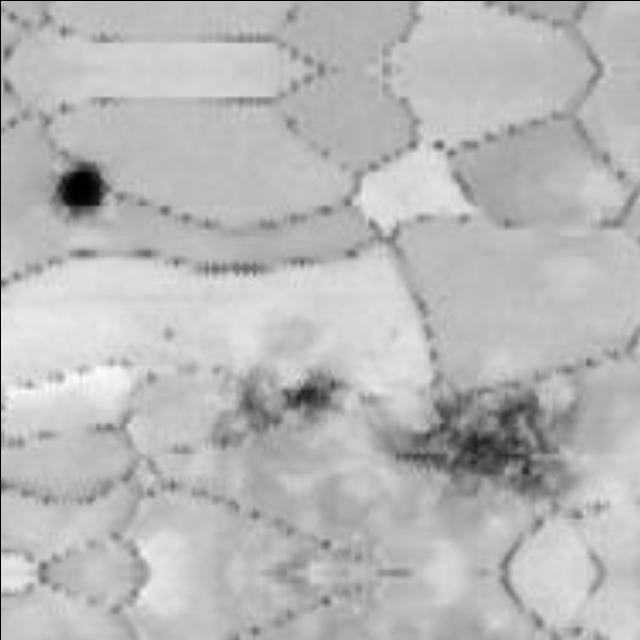good_void: (400, 375, 566, 501), (278, 364, 344, 421), (52, 156, 109, 215), (237, 382, 285, 429), (202, 407, 248, 451)
